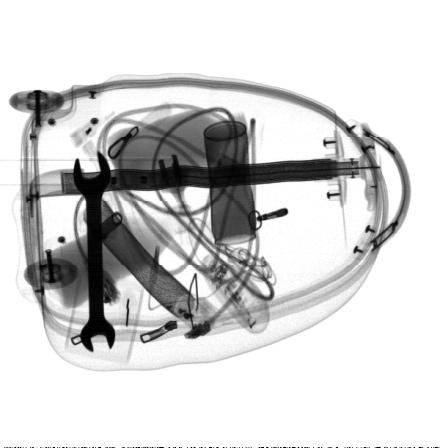Wrench: (73, 151, 116, 352)
